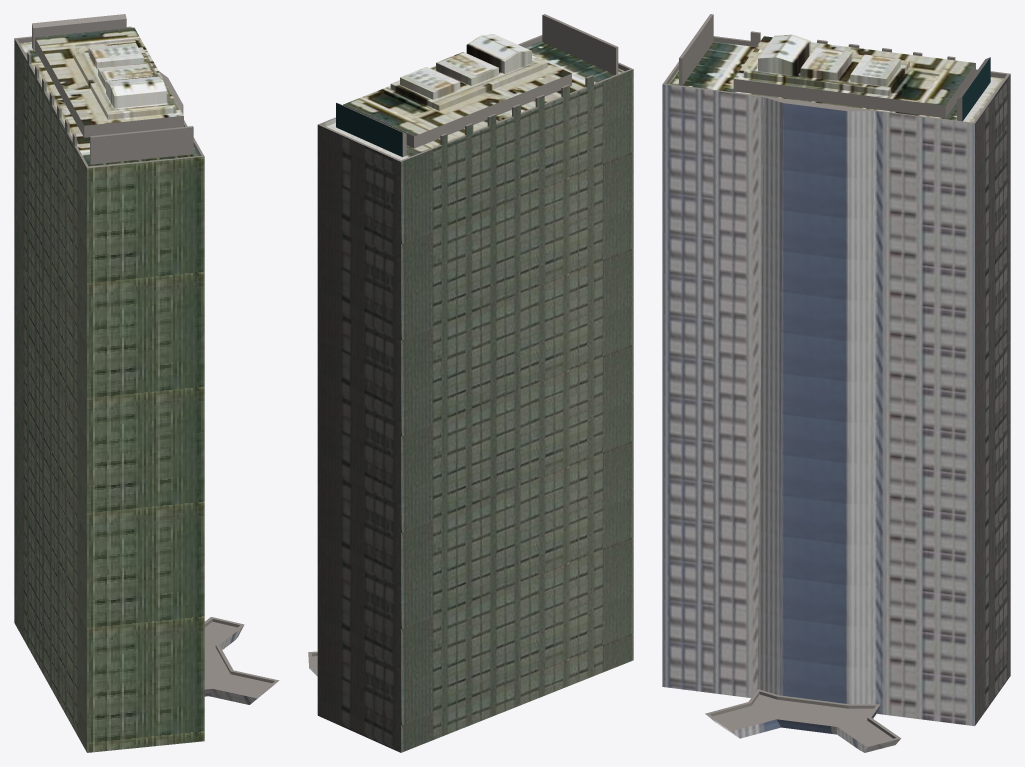
File: Senza.fbx
The picture shows the model from 3 angles, left to right: view 1: azimuth 30°, elevation 25°; view 2: azimuth 150°, elevation 25°; view 3: azimuth 270°, elevation 25°; orthographic projection. The views are drawn at different scales.
Visible parts, largest first — view 1: Group1; view 2: Group1; view 3: Group1.
Boxes of the visible parts, box(x1,y1,x2,y2) form: Group1: box(14, 14, 279, 752); Group1: box(308, 14, 633, 752); Group1: box(662, 14, 1010, 752).
Size of what is drawn, in the model's own units: 31.11 by 76.57 by 37.95.
